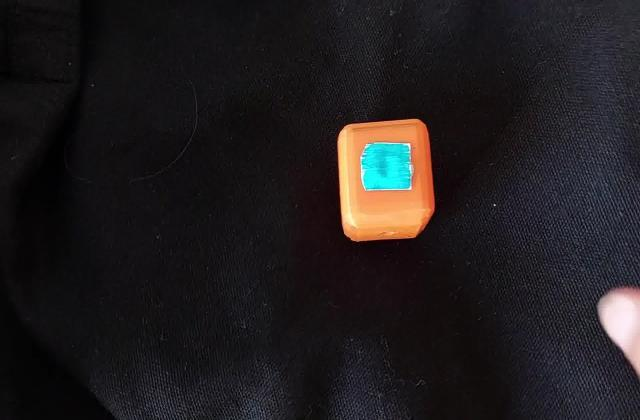blue: (369, 152, 406, 183)
sticker: (330, 113, 442, 248)
